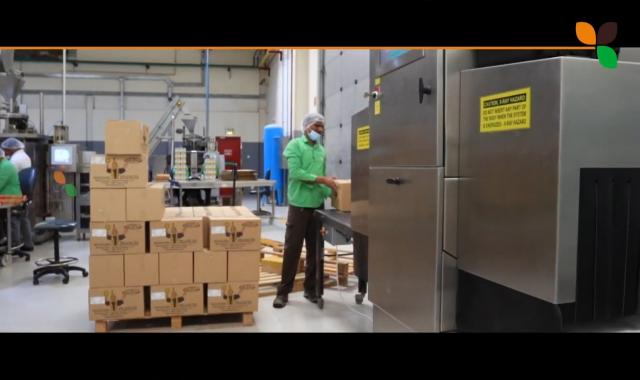hairnet: (302, 113, 326, 141), (1, 135, 26, 152)
